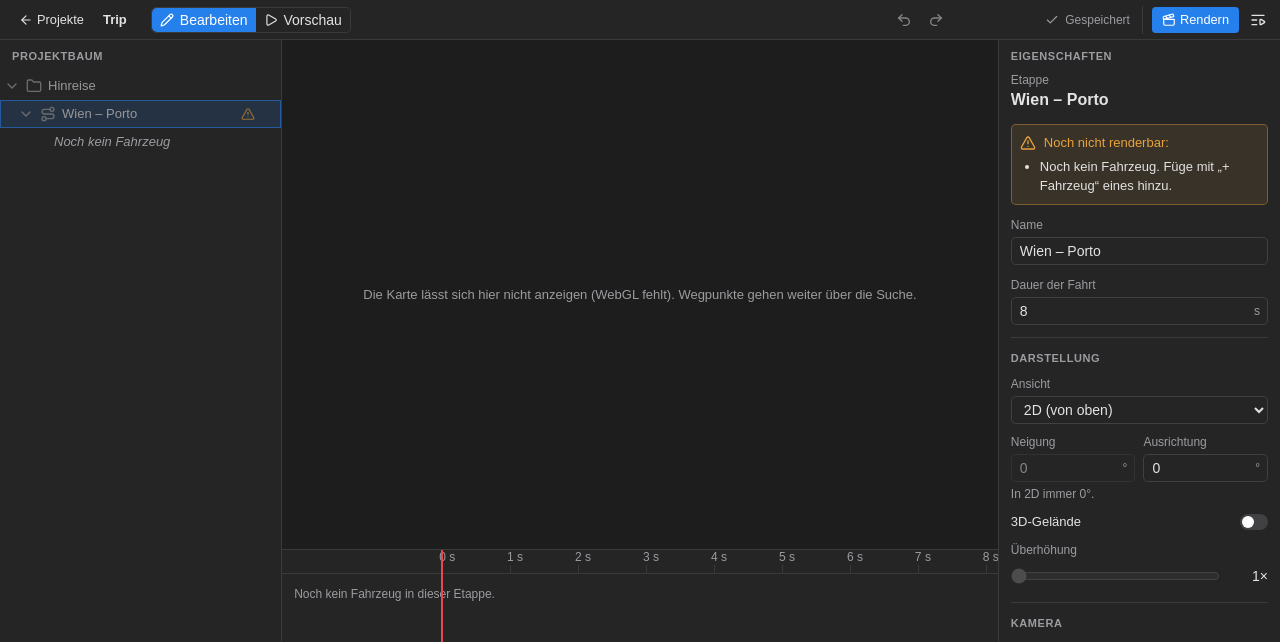
Test: Inspector › stands a stage on 3D terrain, higher if wanted, and says when it looks flat
The image size is (1280, 642).
Expected: the heading "Trip" is shown, x1=103 y1=10 x2=127 y2=29
Expected: the slider labelled "Überhöhung" is disabled, x1=1011 y1=562 x2=1220 y2=590
Click the switch labelled "3D-Gelände" at (1254, 522), box x1=1240 y1=514 x2=1268 y2=530
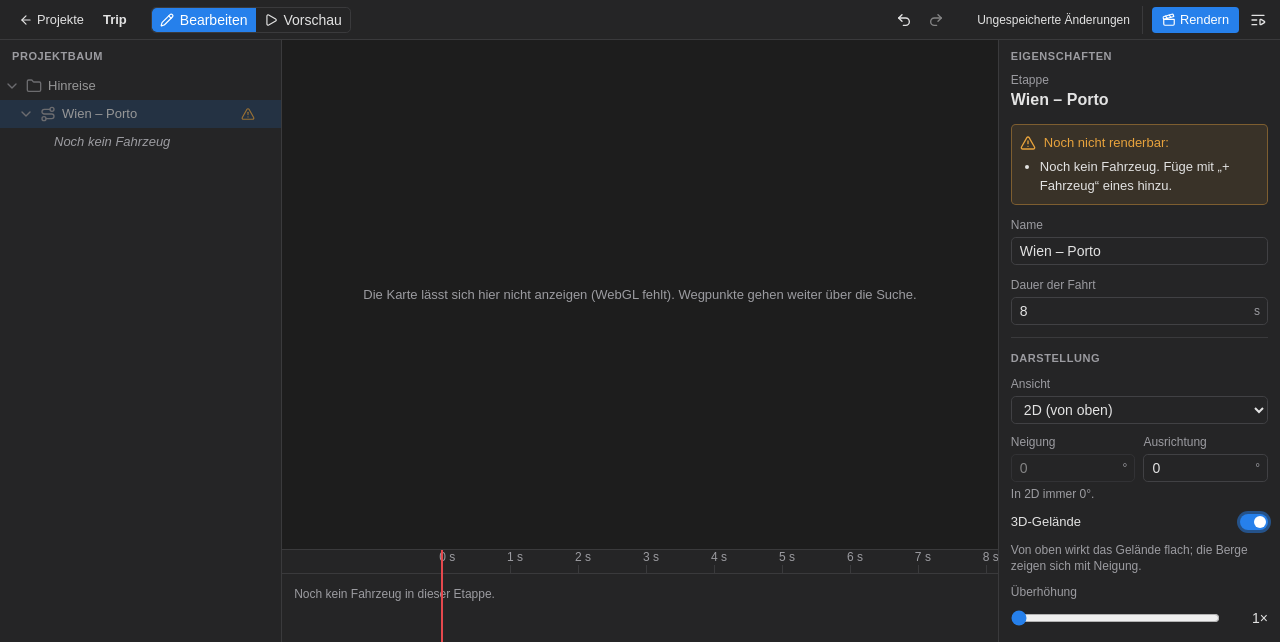
Result: the slider labelled "Überhöhung" is enabled
Result: the text "Von oben wirkt das Gelände flach" is shown at x1=1011 y1=542 x2=1248 y2=572
Set the slider labelled "Überhöhung" to "2" at (1115, 618), box x1=1011 y1=604 x2=1220 y2=632
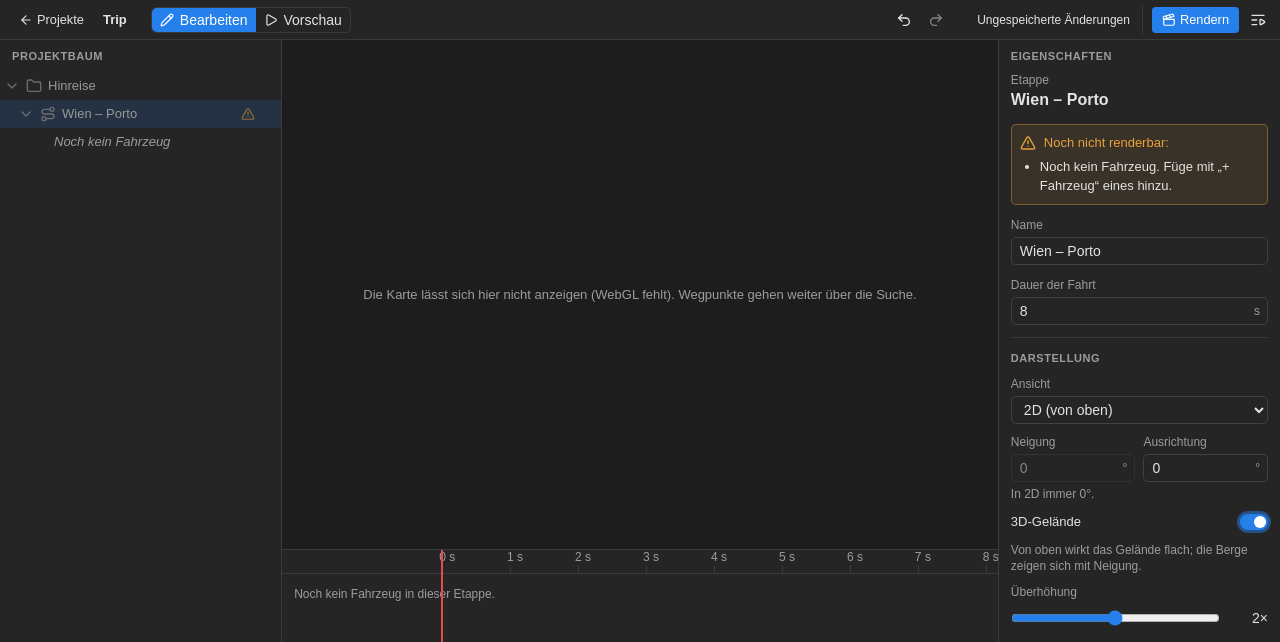
Result: the text "2×" is shown at x1=1252 y1=610 x2=1268 y2=626
Select "3D geneigt" in the dropdown labelled "Ansicht" at (1139, 410), box x1=1011 y1=396 x2=1268 y2=424
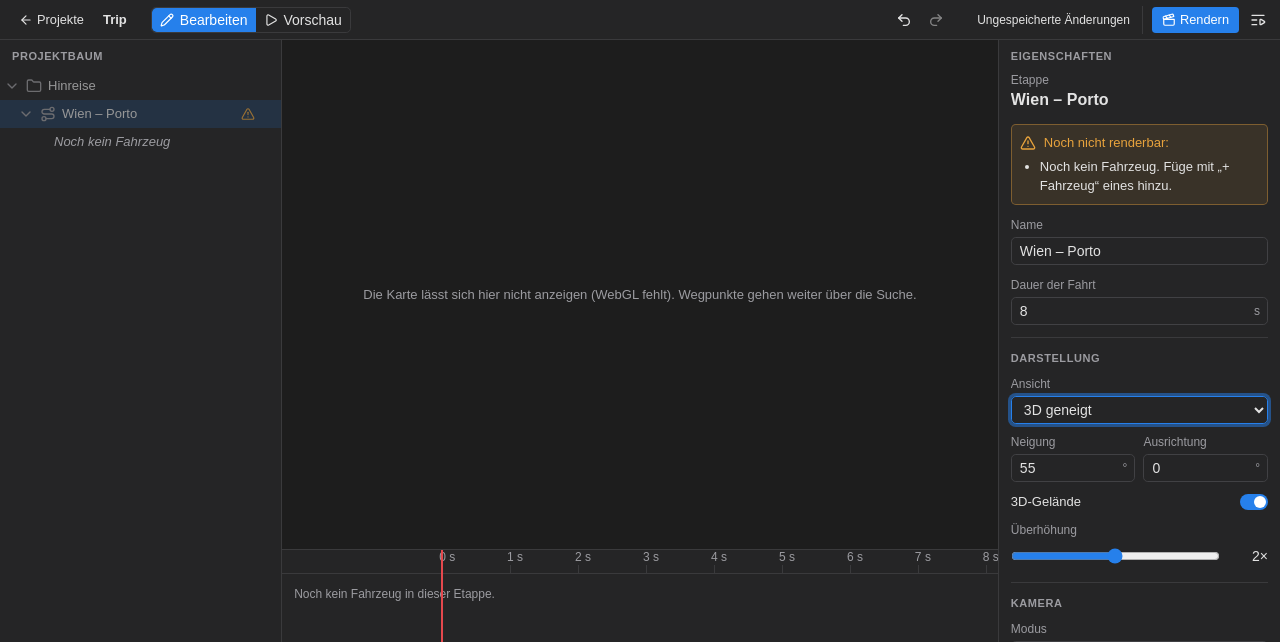
Result: the text "Von oben wirkt das Gelände flach" is gone
